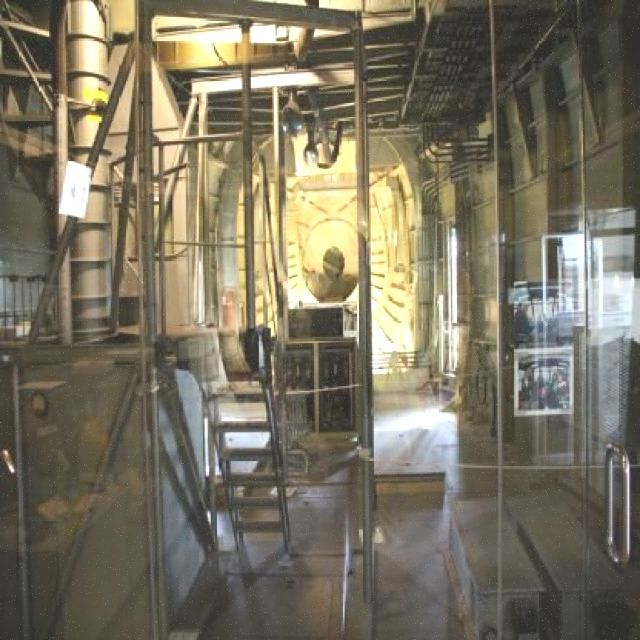stair: (209, 365, 291, 549)
